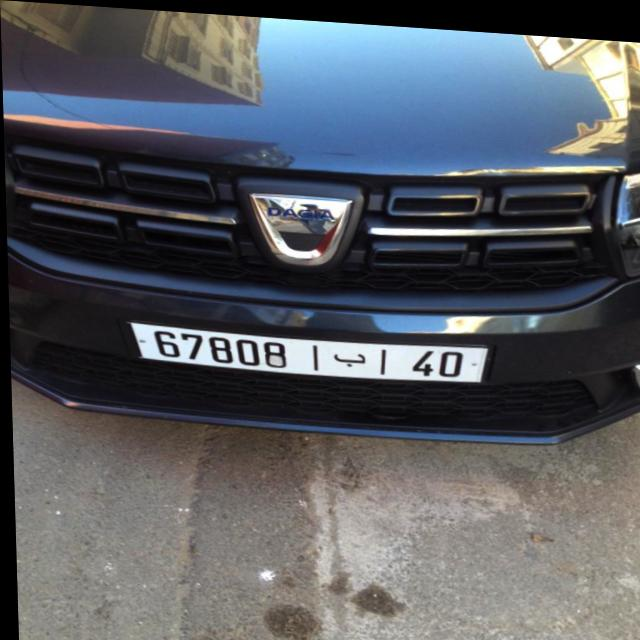License-Plate: (129, 321, 486, 376)
